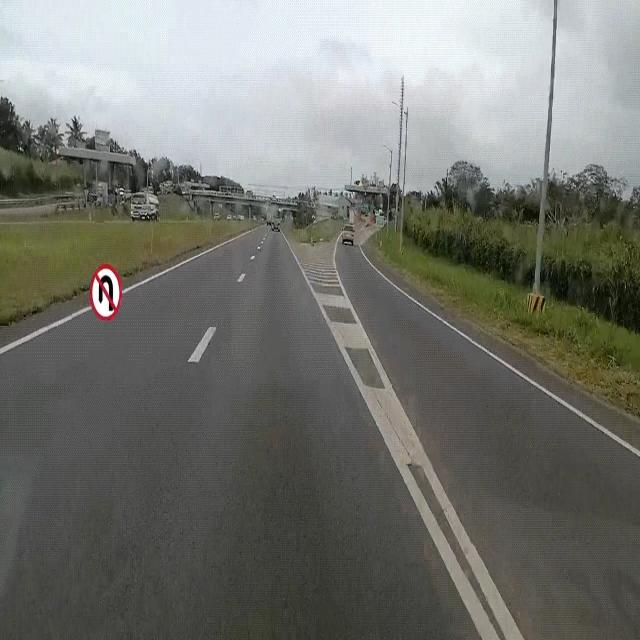Demi-Tour-Interdit: (87, 260, 125, 326)
